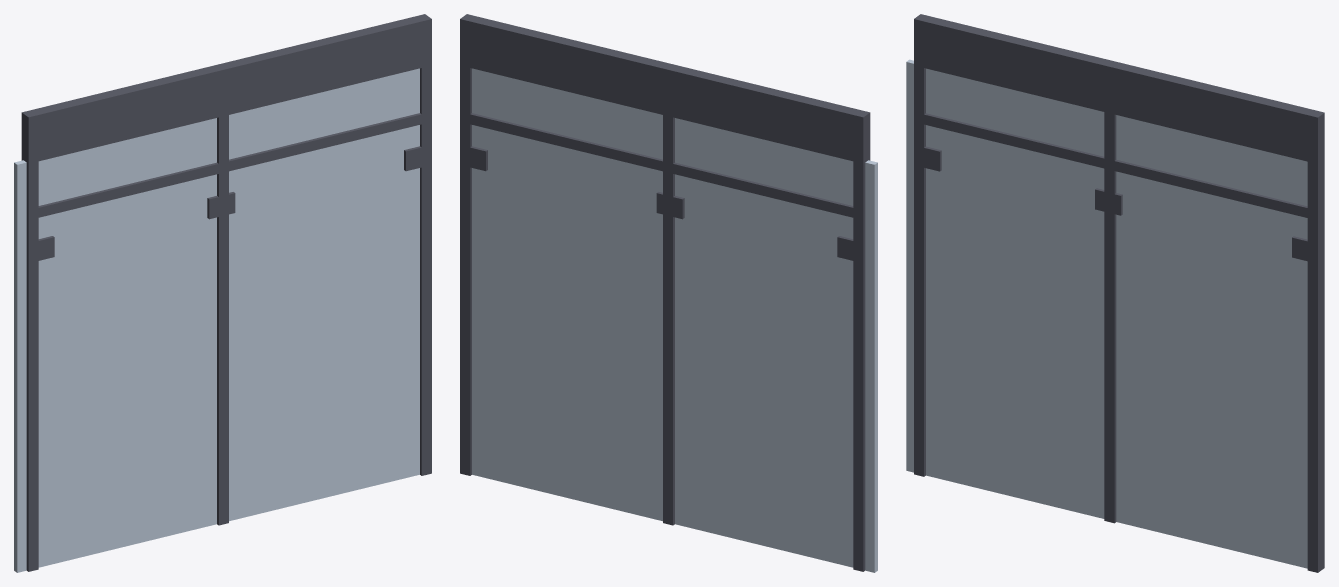
Rendered from tiem-banh-cua.glb.
3 renders of one model, left to right at view 1: azimuth 30°, elevation 25°; view 2: azimuth 150°, elevation 25°; view 3: azimuth 330°, elevation 25°, orthographic.
Parts seen in each view (by area): view 1: tiem-banh-cua; view 2: tiem-banh-cua; view 3: tiem-banh-cua.
Boxes of the visible parts, x1=… form: tiem-banh-cua: x1=14, y1=14, x2=431, y2=572; tiem-banh-cua: x1=460, y1=14, x2=877, y2=572; tiem-banh-cua: x1=906, y1=14, x2=1324, y2=572.
Bounding box in the file's own units: 13.02 × 13.7 × 0.3746.
